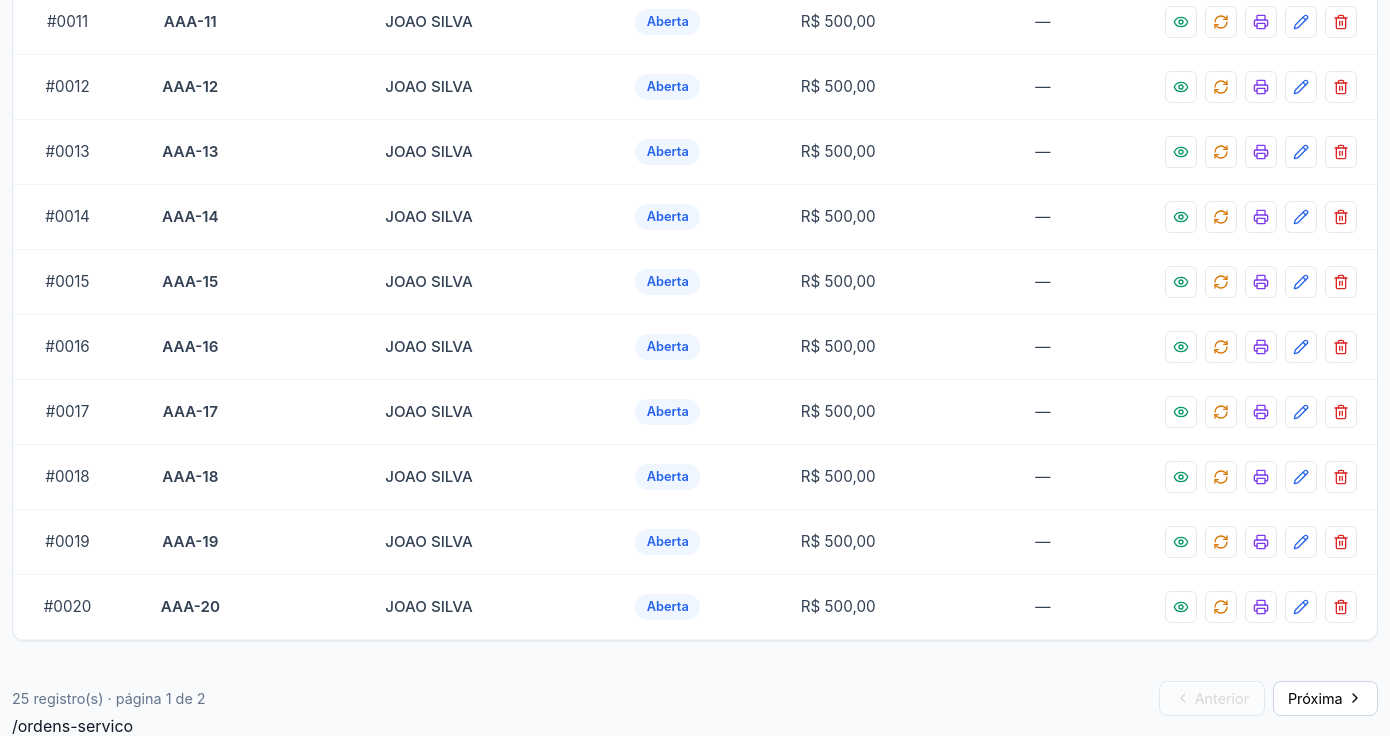
Scenario: Página de Ordens de Serviço › pesquisa e filtros (no servidor) › paginação: 'Próxima' pede a página seguinte ao servidor
(page scrolled)
expect the text "25 registro(s) · página 1 de 2" is shown: met, box x1=12 y1=690 x2=206 y2=707
Step 1. Click the button "Próxima" → {"x": 1325, "y": 698}, box x1=1272 y1=681 x2=1378 y2=716
(page scrolled)
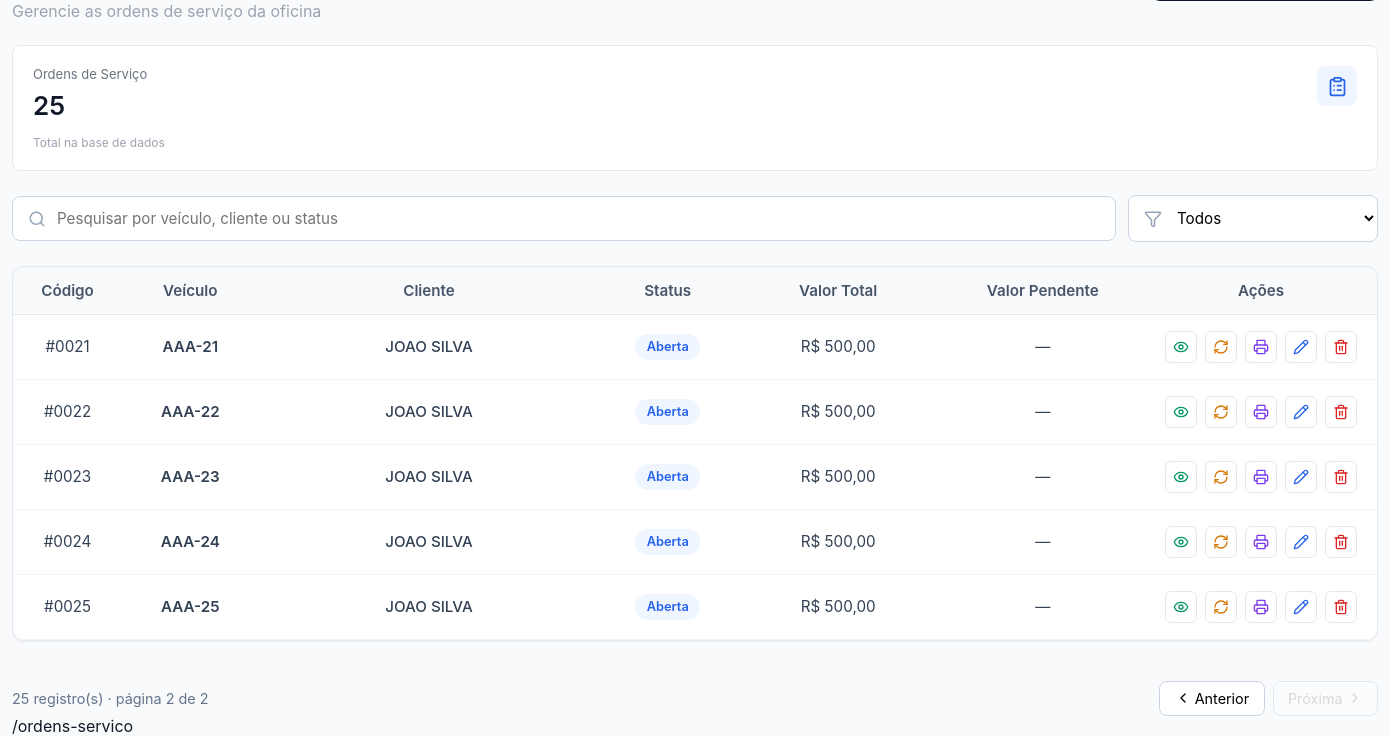
expect the text "#0021" is shown: met, box x1=13 y1=314 x2=122 y2=379
expect the text "25 registro(s) · página 2 de 2" is shown: met, box x1=12 y1=690 x2=208 y2=707
